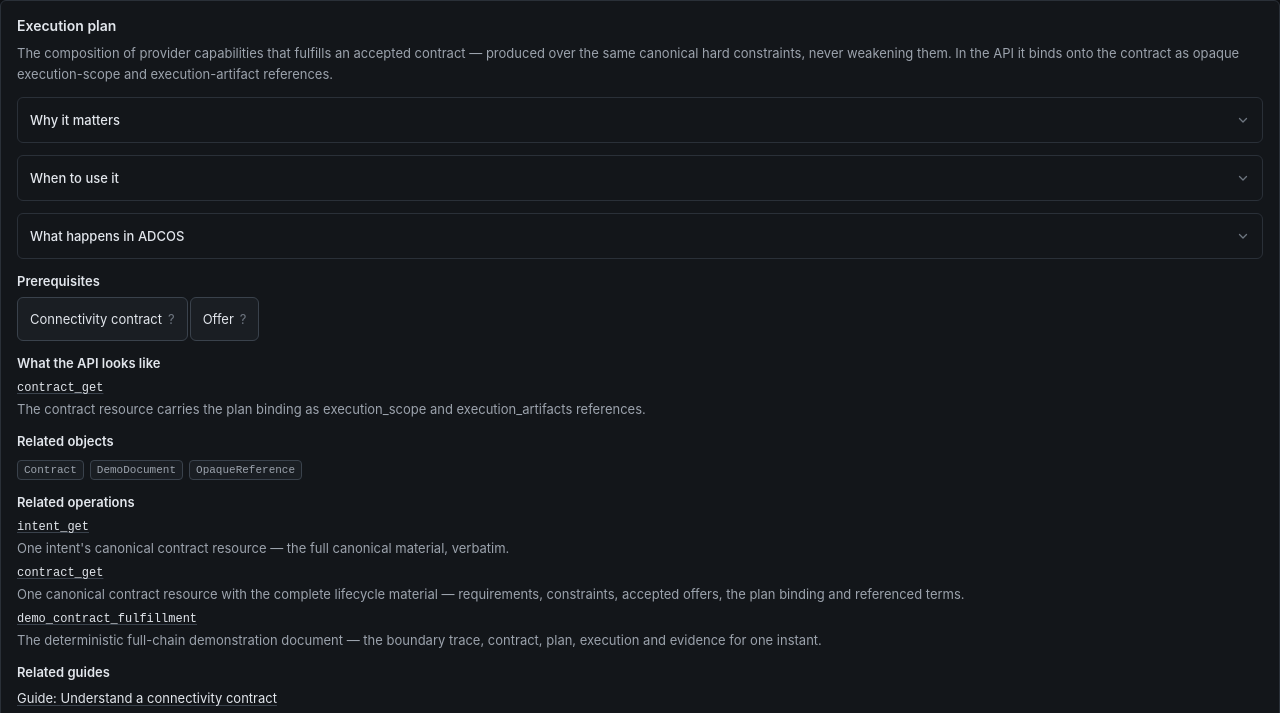
it: learning primitives › the explainer renders prerequisites as ConceptLink chips from the REAL registry (execution-plan)
Check: the heading "Prerequisites" is shown, box left=17, top=273, right=100, bottom=289
Check: the button with aria-label "What is: Connectivity contract" is shown, box left=17, top=297, right=188, bottom=341
# a chip opens the prerequisite's own drawer with ITS real content
Click the button with aria-label "What is: Offer": (225, 319) left=190, top=297, right=260, bottom=341
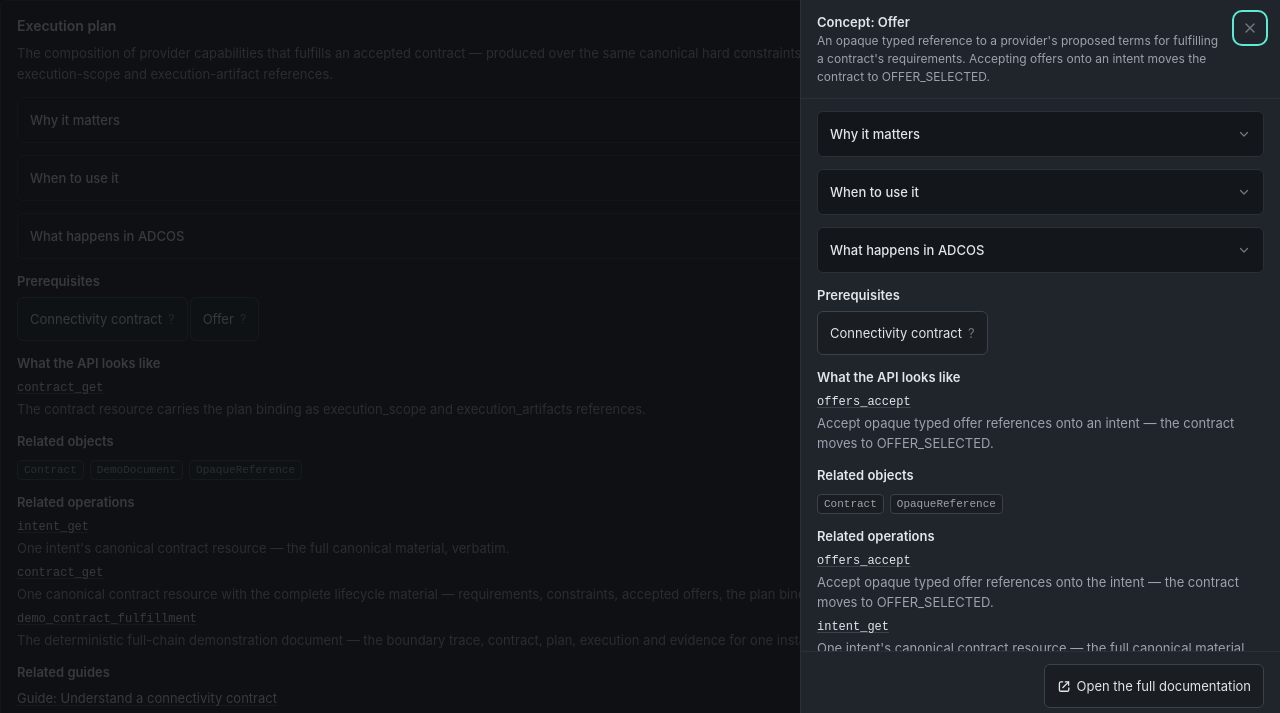
Check: the text "An opaque typed reference to a provider's proposed terms" is shown, box left=817, top=33, right=1218, bottom=84
